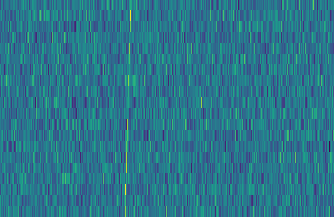signal: (118, 0, 133, 217)
